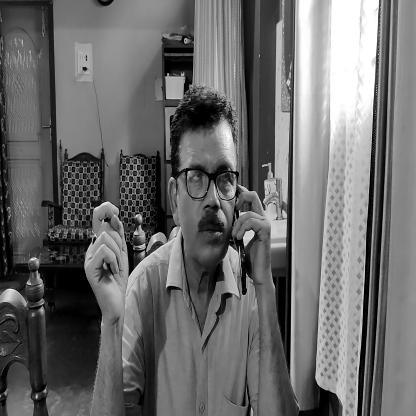Distracted: (167, 89, 243, 275)
